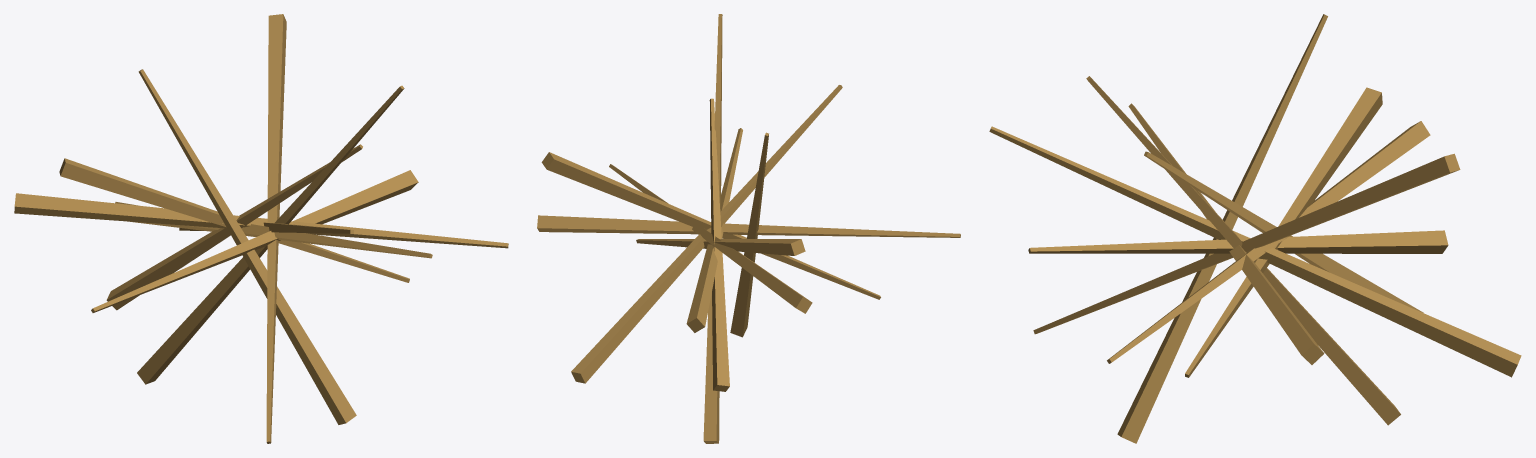
Rendered from hd_drybrush.gltf.
3 views of the same model, side by side, from view 1: azimuth 30°, elevation 25°; view 2: azimuth 150°, elevation 25°; view 3: azimuth 270°, elevation 25° (orthographic). The views are drawn at different scales.
Visible parts, largest first — view 1: tw5, tw6, tw0, tw7, tw8, tw2, tw3, tw4, tw1; view 2: tw1, tw8, tw0, tw3, tw7, tw4, tw6, tw5, tw2; view 3: tw1, tw4, tw6, tw0, tw7, tw2, tw5, tw8, tw3.
Part boxes in pixels (left/top/right/bottom): tw5: left=14, top=193, right=508, bottom=248; tw6: left=138, top=69, right=356, bottom=424; tw0: left=266, top=14, right=286, bottom=443; tw7: left=137, top=85, right=404, bottom=384; tw8: left=91, top=170, right=418, bottom=312; tw2: left=59, top=158, right=409, bottom=282; tw3: left=106, top=144, right=362, bottom=310; tw4: left=115, top=202, right=432, bottom=258; tw1: left=179, top=222, right=353, bottom=233; tw1: left=571, top=85, right=842, bottom=383; tw8: left=537, top=215, right=960, bottom=237; tw0: left=541, top=152, right=880, bottom=299; tw3: left=709, top=98, right=729, bottom=391; tw7: left=703, top=14, right=722, bottom=443; tw4: left=686, top=128, right=742, bottom=332; tw6: left=730, top=132, right=768, bottom=337; tw5: left=609, top=164, right=812, bottom=313; tw2: left=636, top=239, right=805, bottom=255; tw1: left=989, top=126, right=1521, bottom=377; tw4: left=1028, top=230, right=1448, bottom=253; tw6: left=1117, top=14, right=1327, bottom=443; tw0: left=1033, top=153, right=1460, bottom=334; tw7: left=1086, top=76, right=1400, bottom=425; tw2: left=1185, top=87, right=1382, bottom=377; tw5: left=1107, top=121, right=1430, bottom=363; tw8: left=1128, top=103, right=1324, bottom=364; tw3: left=1144, top=151, right=1423, bottom=312.
Bounding box in the file's own units: 0.8802 × 0.7491 × 0.8756.
